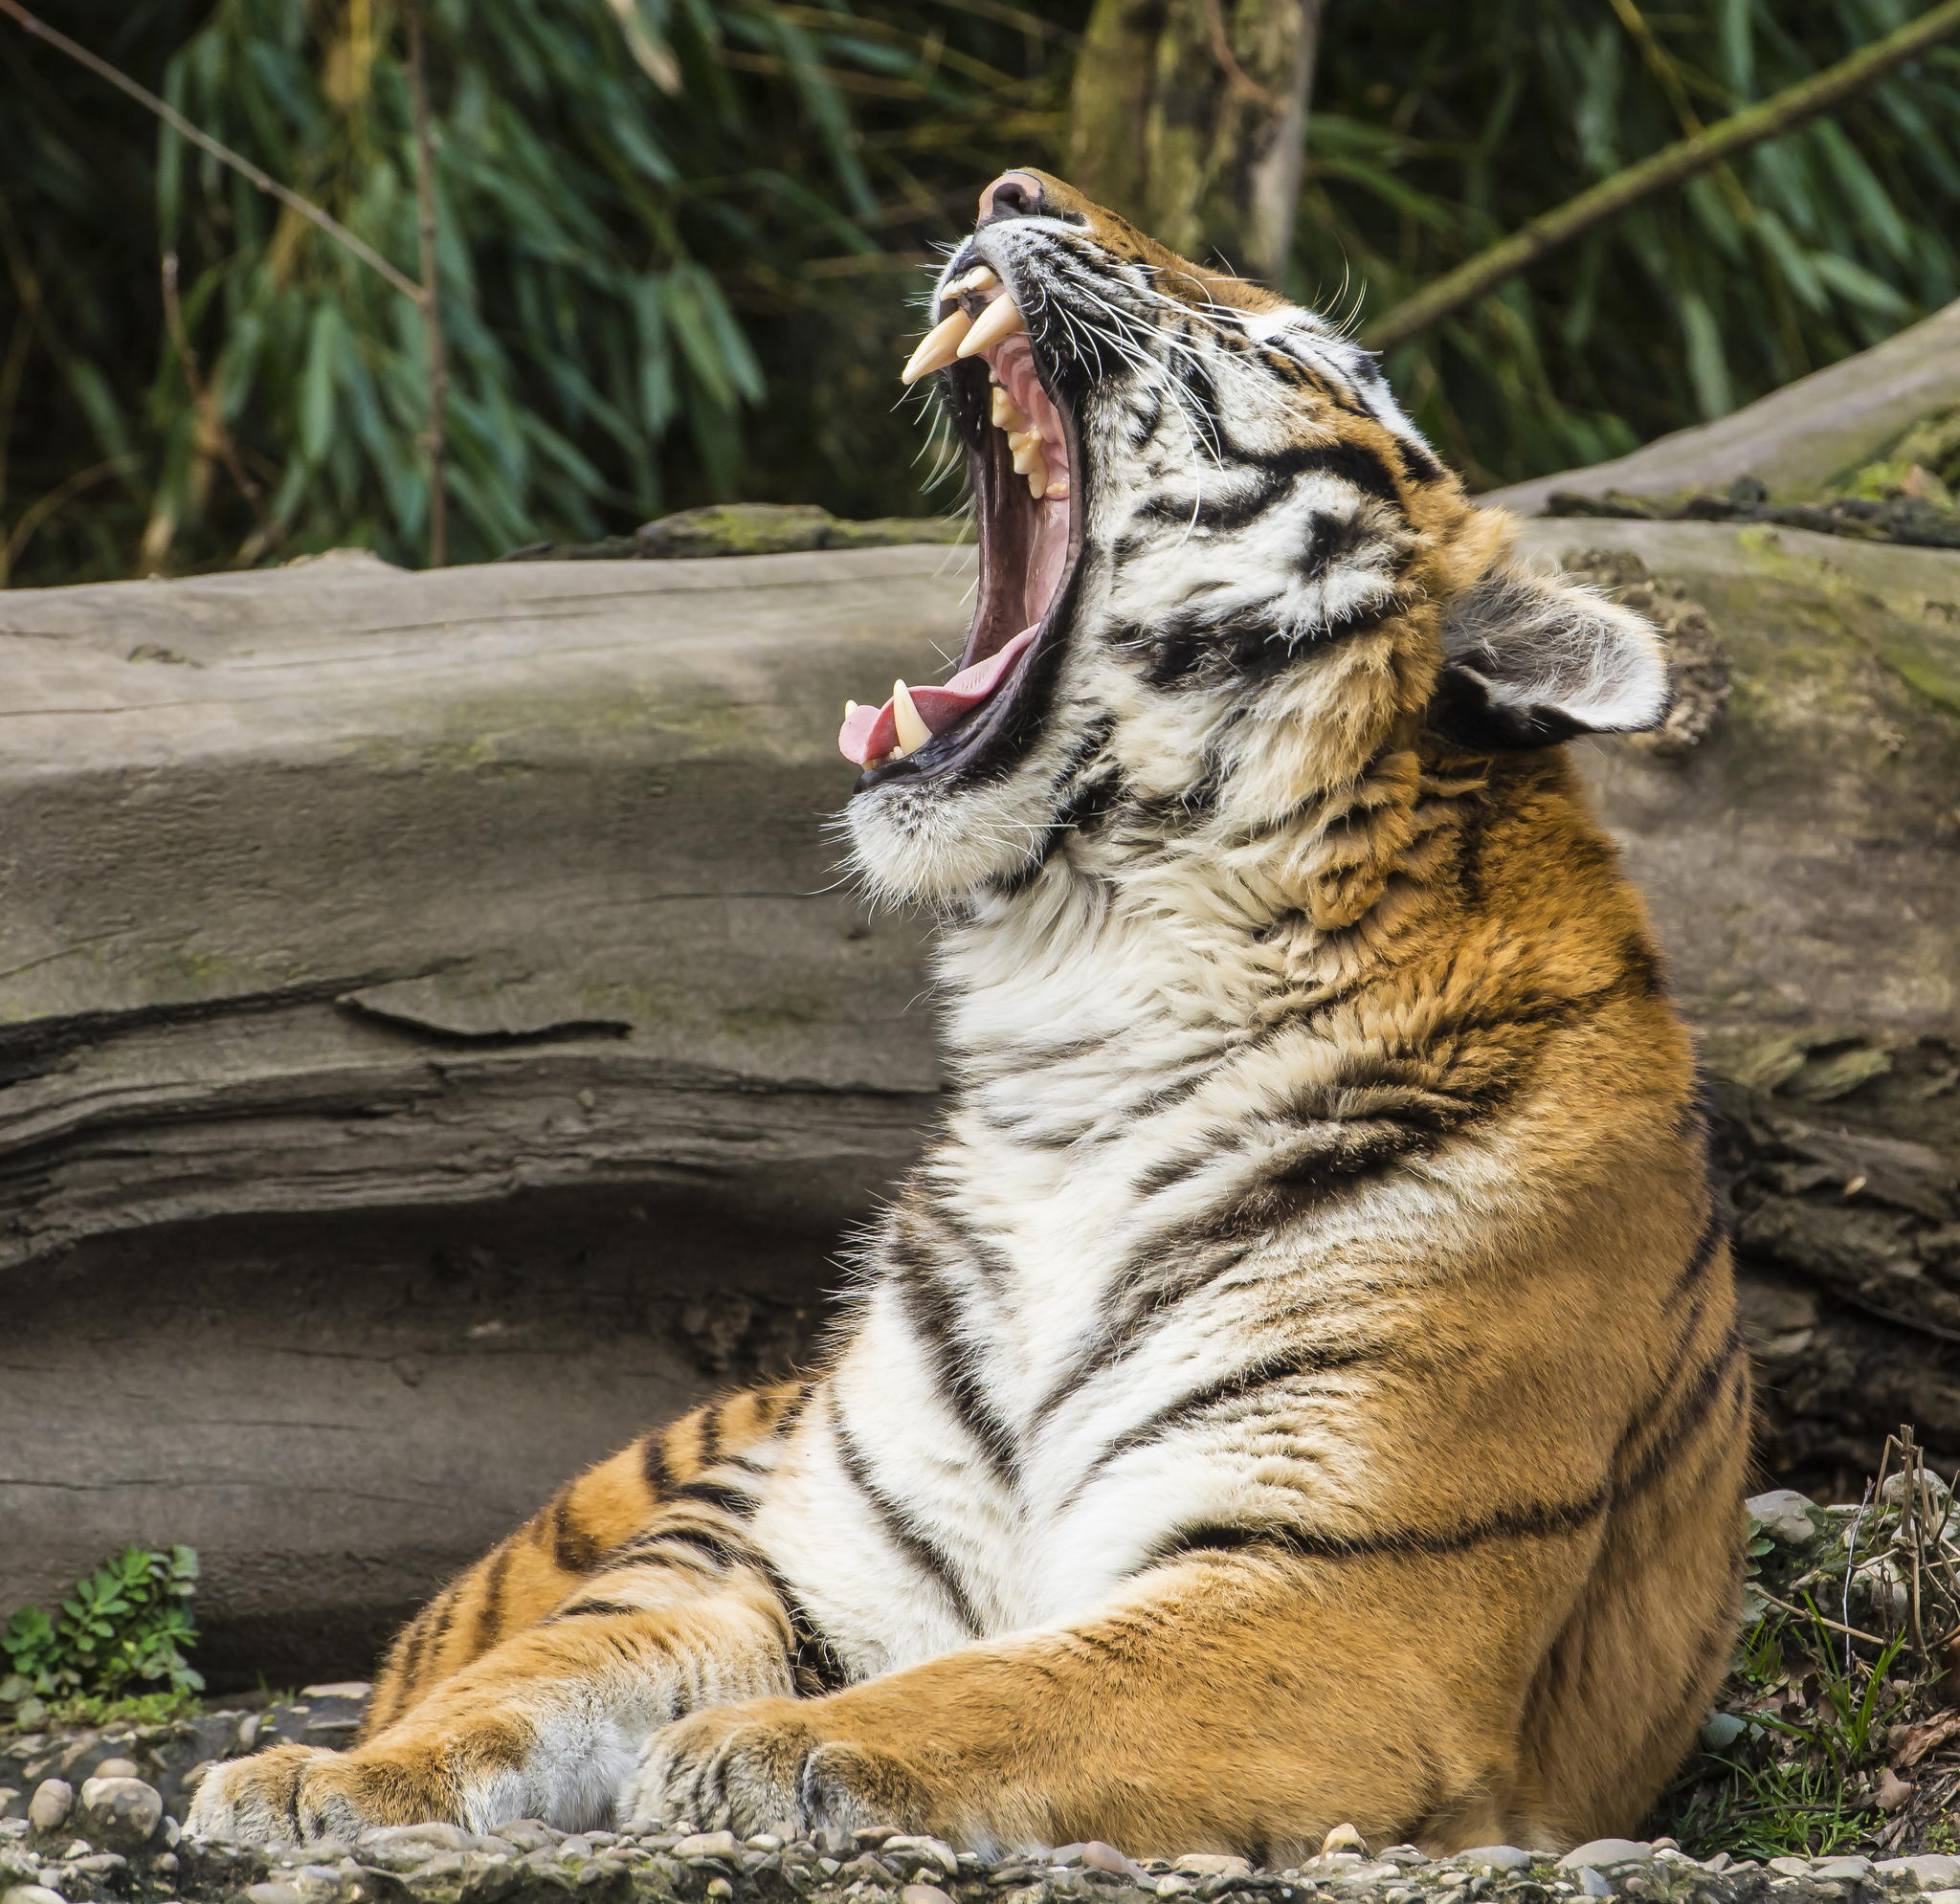tiger: (569, 135, 1871, 1813)
